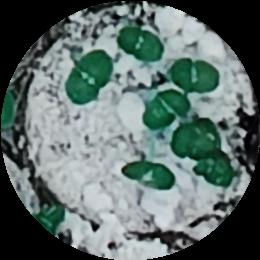Basil: (67, 49, 110, 106), (116, 22, 159, 63), (146, 91, 185, 134), (175, 114, 217, 152), (119, 161, 174, 190), (173, 60, 220, 91), (204, 149, 233, 187)
